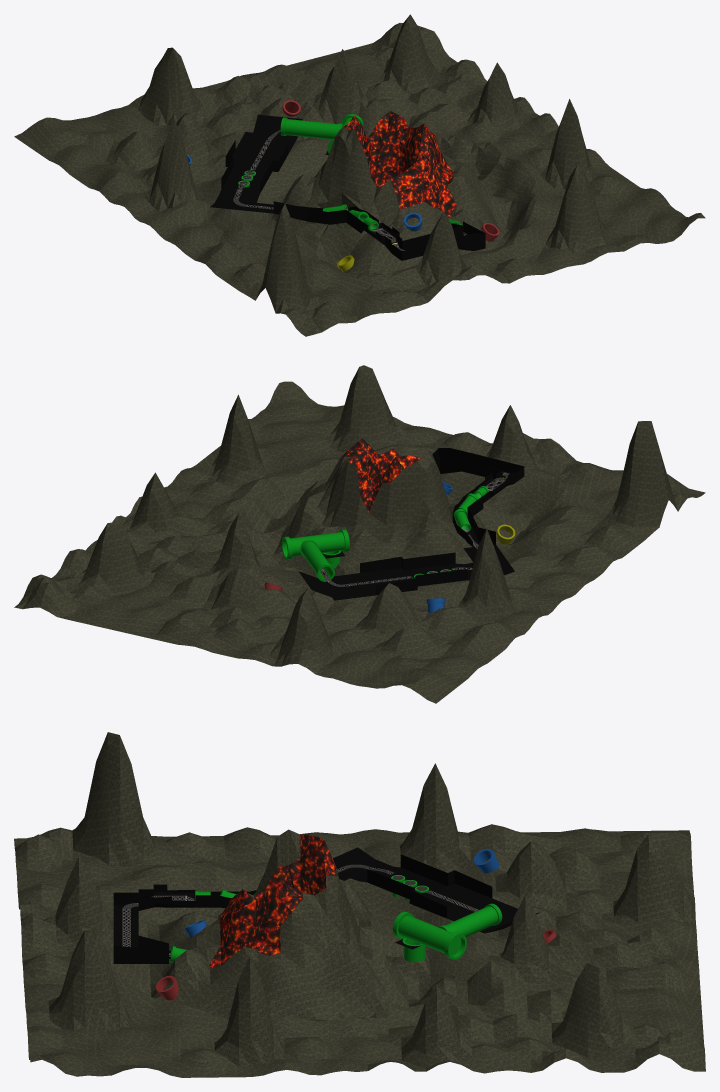
3 views of the same model, one above another, from view 1: azimuth 30°, elevation 25°; view 2: azimuth 150°, elevation 25°; view 3: azimuth 270°, elevation 25° (orthographic). The views are drawn at different scales.
Parts seen in each view (by area): view 1: pu5_Main-rockwall, pu5_g_68546-fall_boundary, pu5_Main-darklava, pu5_Main-greenpipewall, pu5_g_68547-metalgrate, pu5_Main-redpipewall; view 2: pu5_Main-rockwall, pu5_g_68546-fall_boundary, pu5_Main-greenpipewall, pu5_Main-darklava, pu5_g_68547-metalgrate; view 3: pu5_Main-rockwall, pu5_g_68546-fall_boundary, pu5_Main-darklava, pu5_Main-greenpipewall, pu5_g_68547-metalgrate, pu5_Main-bluepipewall, pu5_Main-redpipewall.
Part boxes in pixels (x1,y1,x2,y2): pu5_Main-rockwall: (14, 14, 705, 336); pu5_g_68546-fall_boundary: (210, 114, 485, 260); pu5_Main-darklava: (344, 111, 457, 216); pu5_Main-greenpipewall: (238, 114, 460, 231); pu5_g_68547-metalgrate: (233, 129, 467, 250); pu5_Main-redpipewall: (282, 100, 499, 241); pu5_Main-rockwall: (14, 365, 705, 703); pu5_g_68546-fall_boundary: (298, 448, 524, 600); pu5_Main-greenpipewall: (282, 486, 488, 581); pu5_Main-darklava: (341, 438, 421, 512); pu5_g_68547-metalgrate: (320, 472, 509, 586); pu5_Main-rockwall: (14, 732, 705, 1077); pu5_g_68546-fall_boundary: (113, 847, 539, 963); pu5_Main-darklava: (209, 834, 336, 967); pu5_Main-greenpipewall: (169, 878, 502, 962); pu5_g_68547-metalgrate: (122, 864, 478, 956); pu5_Main-bluepipewall: (184, 849, 499, 938); pu5_Main-redpipewall: (155, 929, 556, 1000).
Size of the model in its own units: 229498 by 63731 by 269104.
Materials: 24 (24 with a texture image).
